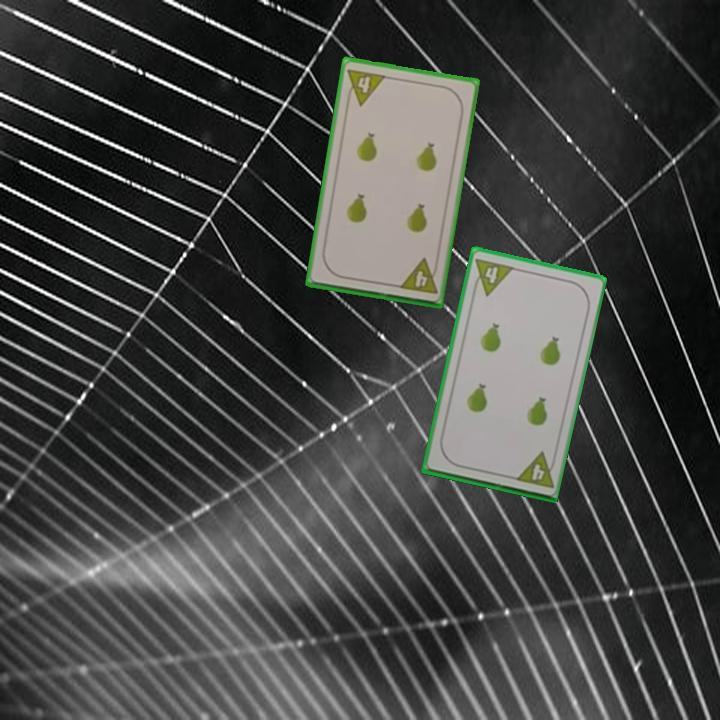4p: (469, 254, 516, 298), (342, 65, 389, 108), (511, 449, 559, 491), (395, 255, 441, 297)
